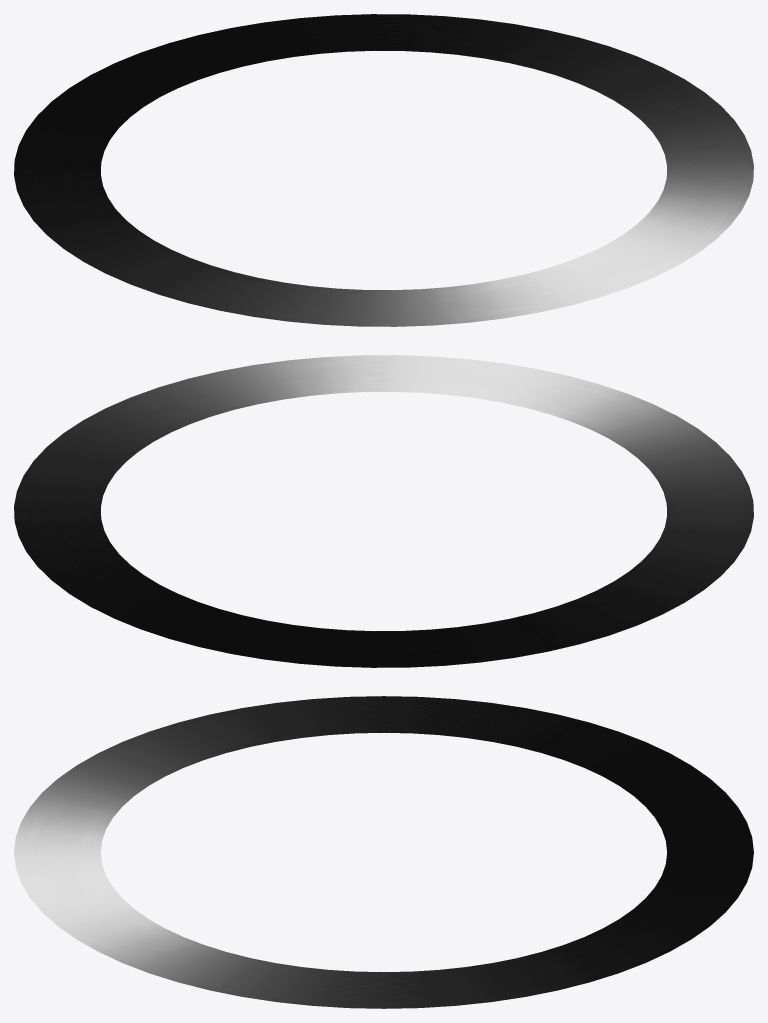
File: FX_lfl_huan_jingjie03.FBX
3 renders of one model, top to bottom at view 1: azimuth 30°, elevation 25°; view 2: azimuth 150°, elevation 25°; view 3: azimuth 270°, elevation 25°, orthographic.
Visible parts, largest first — view 1: Plane001; view 2: Plane001; view 3: Plane001.
Boxes of the visible parts, left/top/right/bottom form: Plane001: left=14, top=14, right=753, bottom=326; Plane001: left=14, top=355, right=753, bottom=667; Plane001: left=14, top=696, right=753, bottom=1008.
Bounding box in the file's own units: 148 × 1.82e-05 × 148.
Materials: 1 (1 with a texture image).
